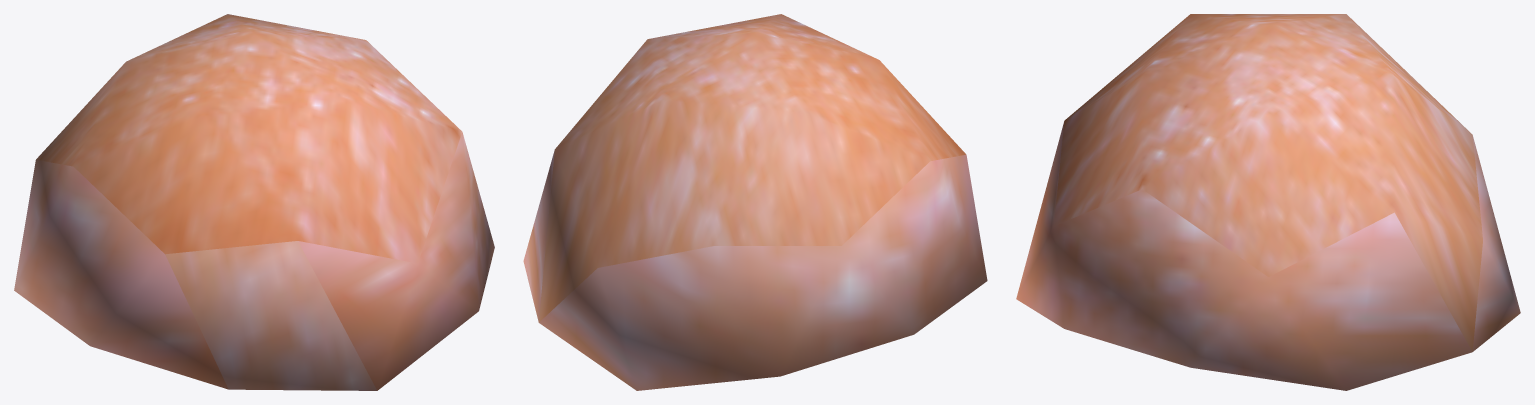
Rendered from CandyGumDropBiege.fbx.
3 views of the same model, side by side, from view 1: azimuth 30°, elevation 25°; view 2: azimuth 150°, elevation 25°; view 3: azimuth 270°, elevation 25° (orthographic). The views are drawn at different scales.
Parts seen in each view (by area): view 1: Icosphere.006; view 2: Icosphere.006; view 3: Icosphere.006.
Boxes of the visible parts, x1,y1,x2,y2 form: Icosphere.006: (14,14,494,390); Icosphere.006: (523,14,987,390); Icosphere.006: (1016,14,1520,390).
Size of the model in its own units: 190 by 131 by 200.
